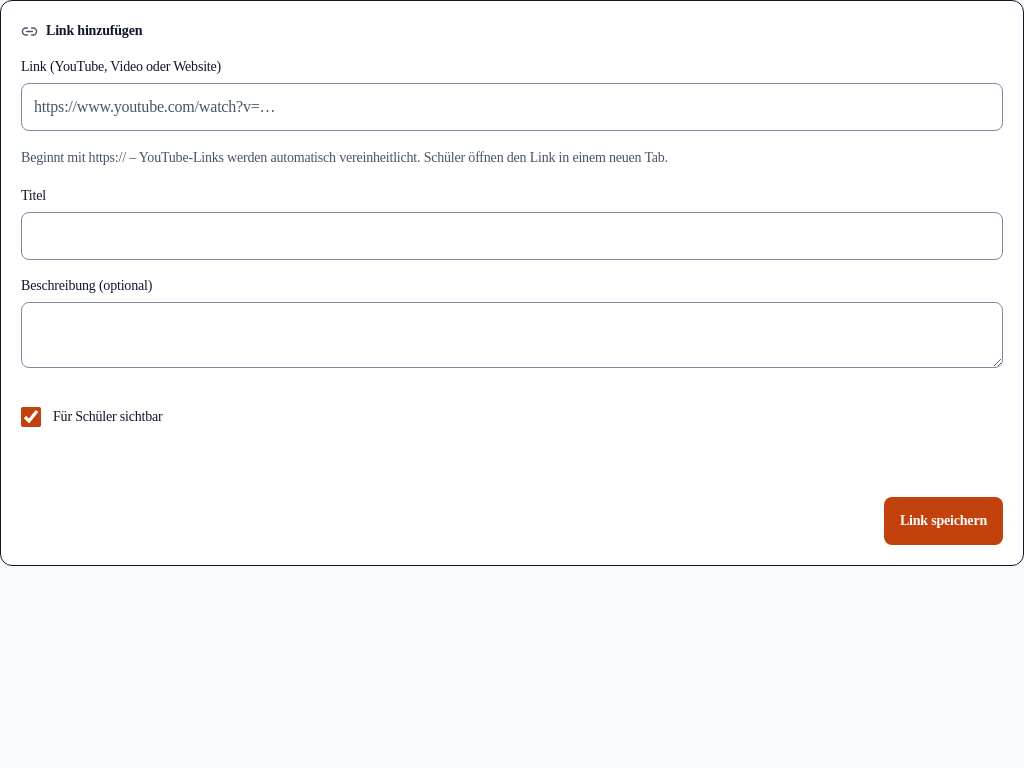
Scenario: adds a YouTube link to the selected folder and keeps it visible by default
Type "https://youtu.be/abcdefghijk" into the field labelled "Link (YouTube, Video oder Website)" at (512, 107), box x1=21 y1=83 x2=1003 y2=131
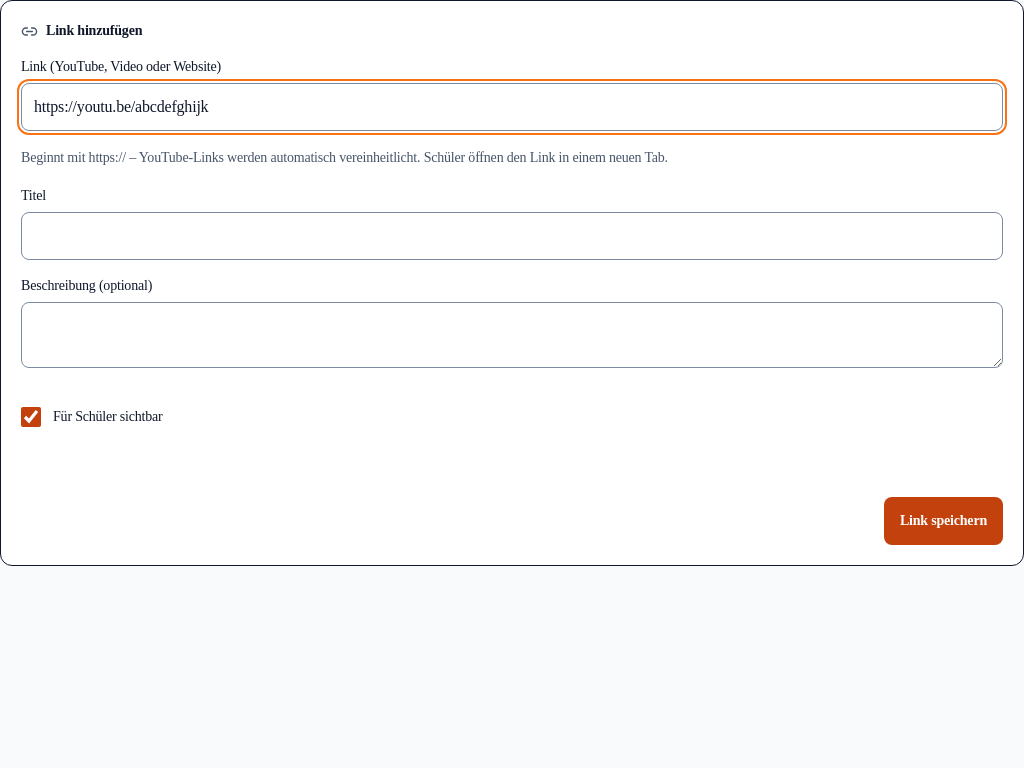
Type "Das Alphabet" into the field labelled "Titel" at (512, 236), box x1=21 y1=212 x2=1003 y2=260
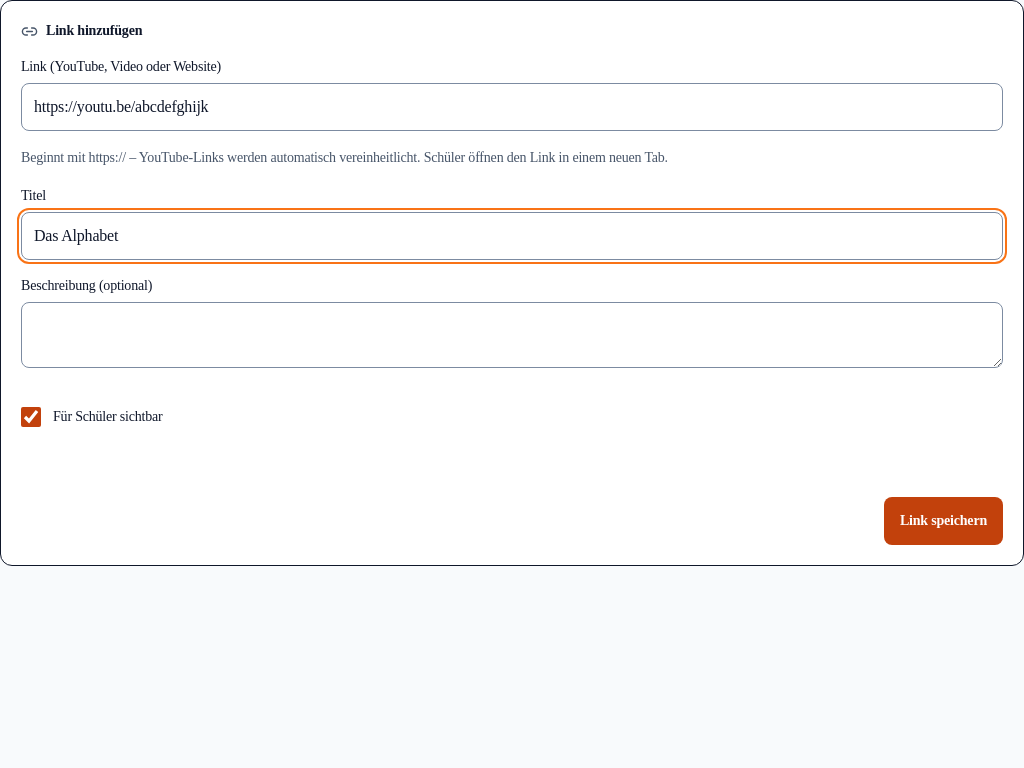
Click the button "Link speichern" at (943, 520), box x1=884 y1=496 x2=1003 y2=544
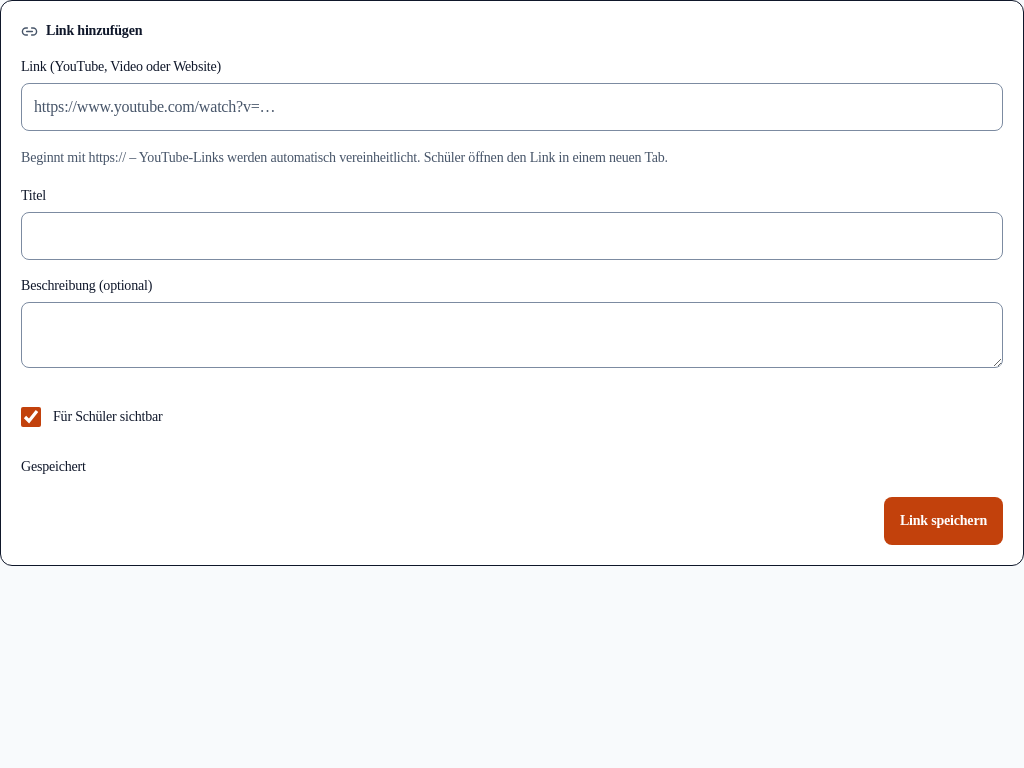
Result: the message reads "Gespeichert" at x1=21 y1=458 x2=86 y2=474
Result: the field labelled "Link (YouTube, Video oder Website)" is empty at x1=21 y1=83 x2=1003 y2=131
